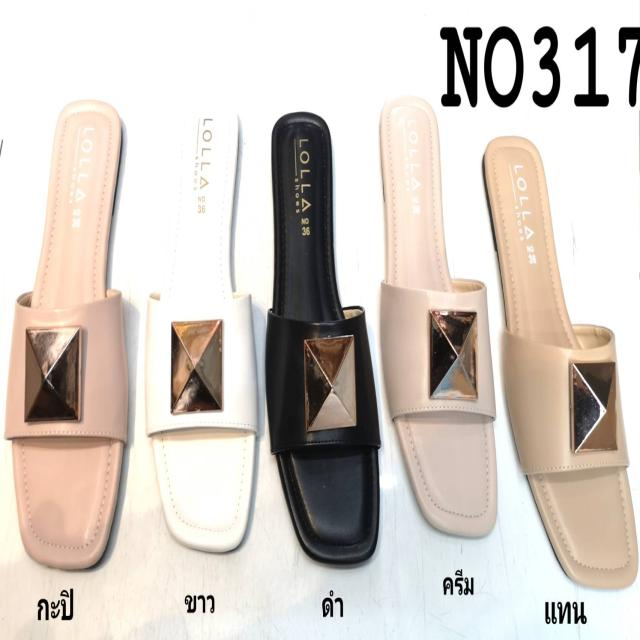black: (267, 111, 381, 566)
cream: (378, 100, 498, 536)
kapi: (10, 103, 129, 567)
tan: (482, 139, 635, 589)
white: (145, 100, 259, 552)
